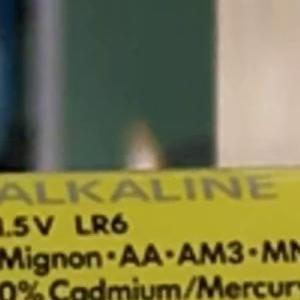keyword: (65, 203, 138, 246)
